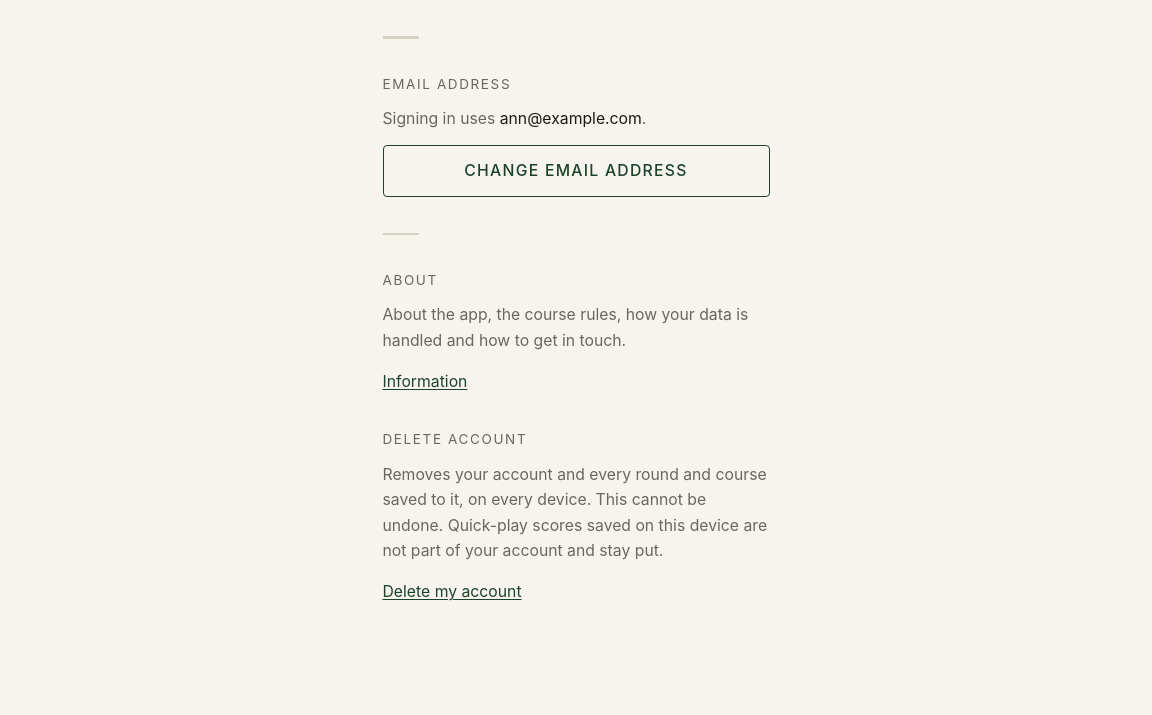
Settings - focus return › the delete sheet returns focus to "Delete my account" on Escape
(page scrolled)
Click the button "Delete my account" at {"x": 452, "y": 593}, box top-left (382, 568), bottom-right (522, 617)
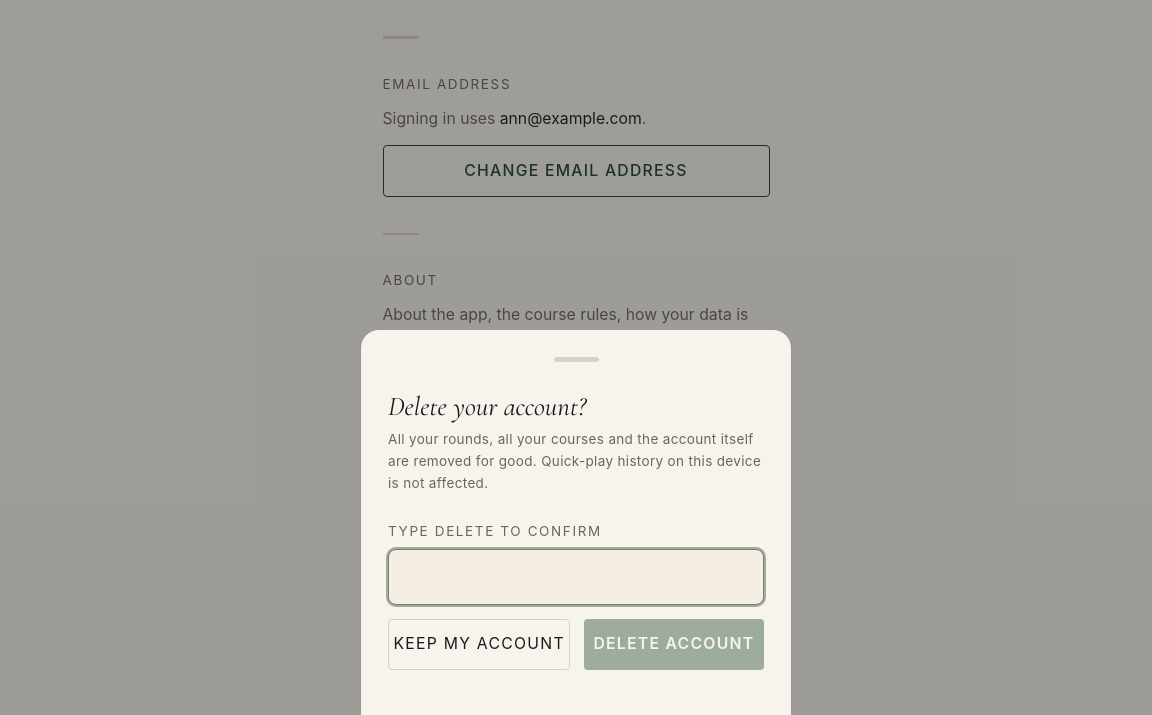
Expected: the dialog is shown, top-left (361, 330), bottom-right (791, 714)
Press Escape
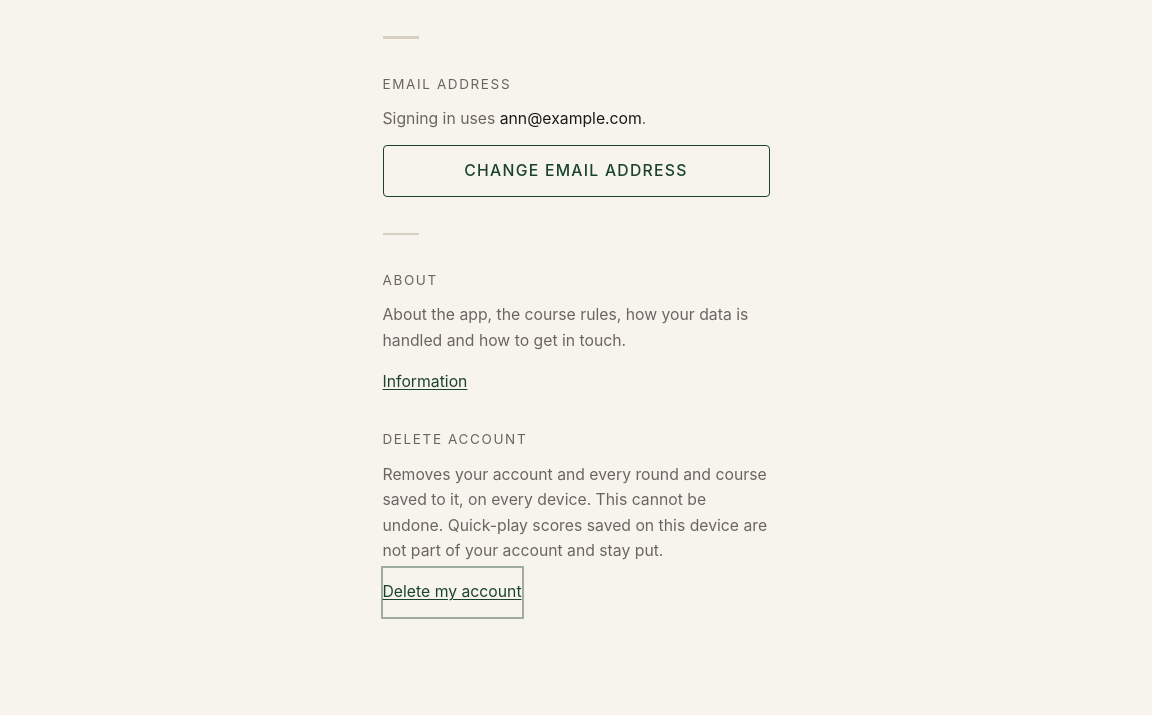
Expected: the dialog is gone
